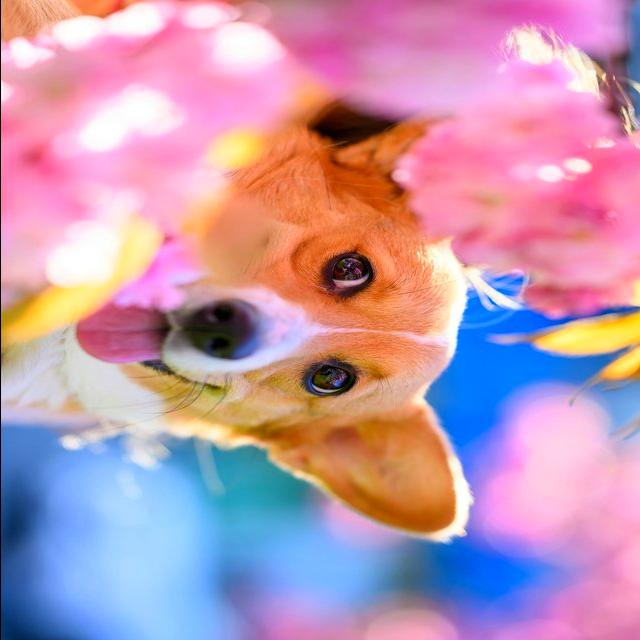corgi: (3, 91, 488, 545)
